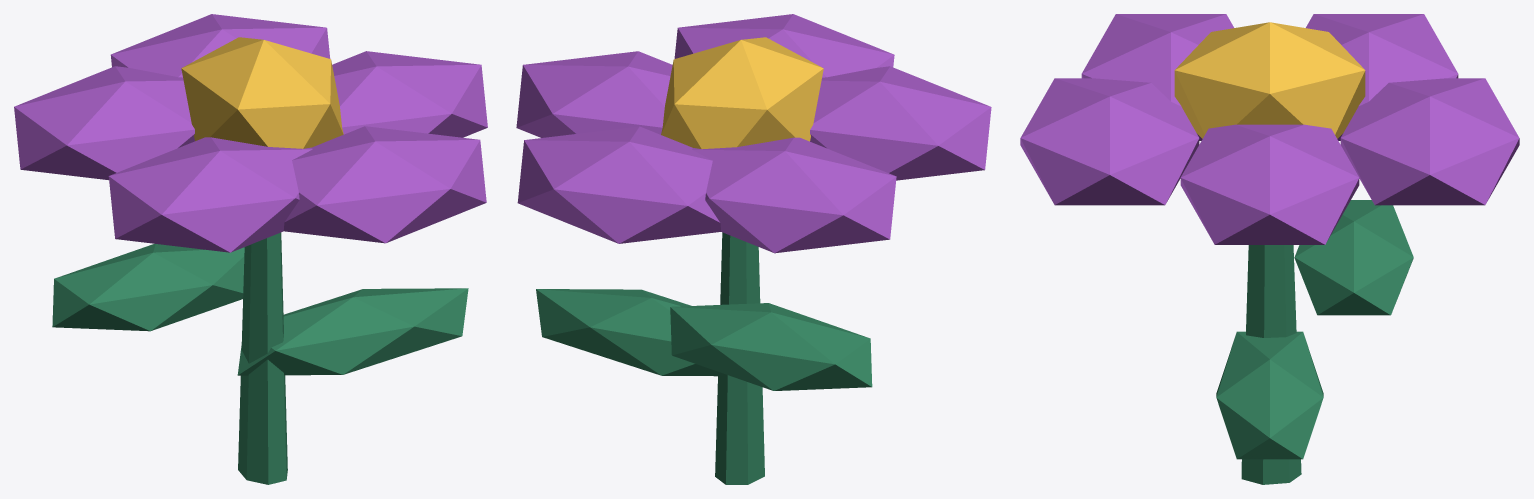
The model's file is starbloom_plant_v001.fbx.
3 views of the same model, side by side, from view 1: azimuth 30°, elevation 25°; view 2: azimuth 150°, elevation 25°; view 3: azimuth 270°, elevation 25° (orthographic). The views are drawn at different scales.
Parts seen in each view (by area): view 1: Petal_4, Petal_3, Petal_2, Flower_Core, Leaf_East, Leaf_Northwest, Petal_0, Stem, Petal_1; view 2: Petal_1, Petal_2, Petal_3, Flower_Core, Leaf_Northwest, Petal_0, Leaf_East, Stem, Petal_4; view 3: Petal_1, Petal_4, Petal_0, Flower_Core, Leaf_East, Leaf_Northwest, Petal_2, Petal_3, Stem.
Part boxes in pixels (left/top/right/bottom): Petal_4: left=283, top=126, right=486, bottom=243; Petal_3: left=108, top=137, right=312, bottom=252; Petal_2: left=14, top=66, right=194, bottom=180; Flower_Core: left=181, top=37, right=343, bottom=148; Leaf_East: left=237, top=288, right=468, bottom=375; Leaf_Northwest: left=52, top=243, right=244, bottom=331; Petal_0: left=332, top=51, right=487, bottom=137; Stem: left=238, top=232, right=287, bottom=484; Petal_1: left=110, top=14, right=330, bottom=77; Petal_1: left=517, top=126, right=721, bottom=243; Petal_2: left=692, top=137, right=896, bottom=253; Petal_3: left=810, top=66, right=991, bottom=180; Flower_Core: left=661, top=37, right=823, bottom=149; Leaf_Northwest: left=670, top=303, right=872, bottom=390; Petal_0: left=516, top=51, right=672, bottom=137; Leaf_East: left=536, top=289, right=723, bottom=376; Stem: left=715, top=232, right=764, bottom=484; Petal_4: left=674, top=14, right=894, bottom=77; Petal_1: left=1340, top=78, right=1519, bottom=205; Petal_4: left=1020, top=78, right=1199, bottom=205; Petal_0: left=1180, top=124, right=1359, bottom=244; Flower_Core: left=1174, top=22, right=1365, bottom=138; Leaf_East: left=1216, top=331, right=1323, bottom=459; Leaf_Northwest: left=1294, top=200, right=1413, bottom=315; Petal_2: left=1306, top=14, right=1458, bottom=140; Petal_3: left=1081, top=14, right=1233, bottom=140; Stem: left=1241, top=245, right=1301, bottom=484.
Bounding box in the file's own units: 0.56 × 0.56 × 0.56.
